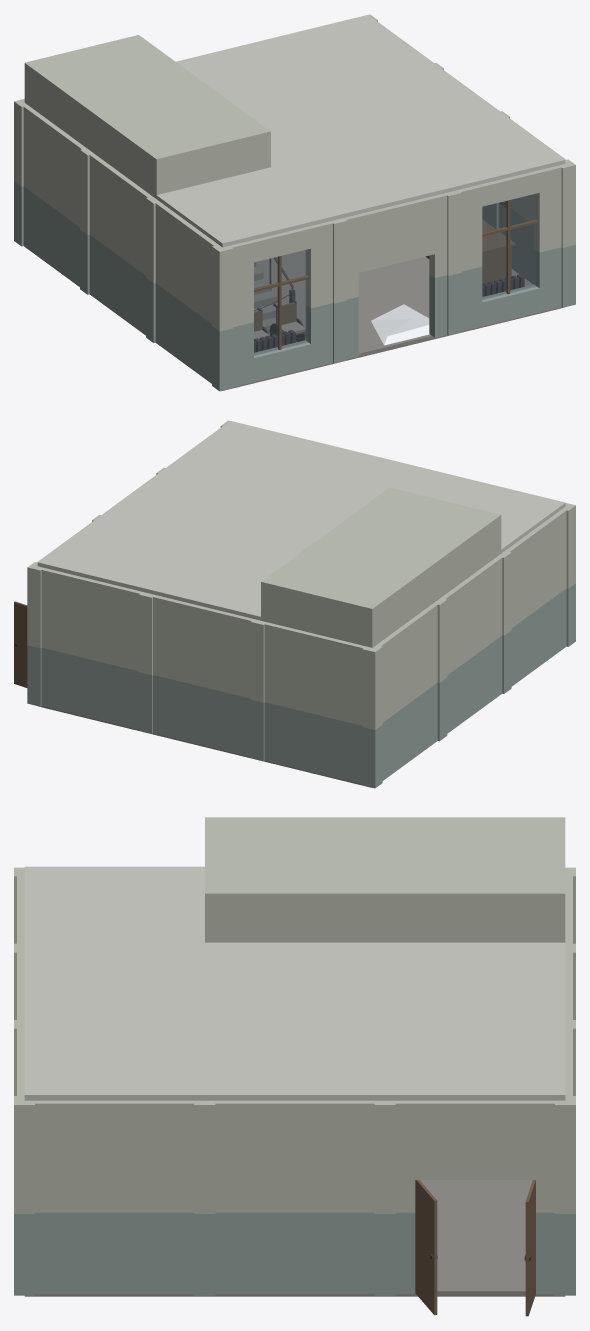
File: INT_Vestibule.glb
3 views of the same model, one above another, from view 1: azimuth 30°, elevation 25°; view 2: azimuth 150°, elevation 25°; view 3: azimuth 270°, elevation 25° (orthographic). The views are drawn at different scales.
Visible parts, largest first — view 1: INT_Vestibule_Stairs_VoidCap_01, INT_Vestibule_Wall_Window_02, INT_Vestibule_Wall_Window_01, INT_Vestibule_Wall_DoorWide_01, INT_Vestibule_Wall_Solid_04, INT_Vestibule_Wall_Solid_06, INT_Vestibule_Wall_Solid_05, INT_Vestibule_Ceiling_Plain_01, INT_Vestibule_Ceiling_Plain_05, INT_Vestibule_Ceiling_Plain_02, INT_Vestibule_Ceiling_Plain_06, INT_Vestibule_Ceiling_Plain_07 (+20 smaller); view 2: INT_Vestibule_Stairs_VoidCap_01, INT_Vestibule_Wall_Solid_01, INT_Vestibule_Wall_Solid_02, INT_Vestibule_Wall_Solid_03, INT_Vestibule_Wall_Solid_04, INT_Vestibule_Wall_Solid_05, INT_Vestibule_Wall_Solid_06, INT_Vestibule_Ceiling_Plain_07, INT_Vestibule_Ceiling_Plain_06, INT_Vestibule_Ceiling_Plain_05, INT_Vestibule_Ceiling_Plain_04, INT_Vestibule_Ceiling_Plain_02 (+10 smaller); view 3: INT_Vestibule_Stairs_VoidCap_01, INT_Vestibule_Wall_Solid_08, INT_Vestibule_Wall_Solid_07, INT_Vestibule_Wall_DoorWide_02, INT_Vestibule_Ceiling_Plain_05, INT_Vestibule_Ceiling_Plain_07, INT_Vestibule_Ceiling_Plain_06, INT_Vestibule_Ceiling_Plain_01, INT_Vestibule_Ceiling_Plain_02, INT_Vestibule_Ceiling_Plain_04, INT_Vestibule_Ceiling_Plain_03, INT_Vestibule_Floor_Tile_09 (+7 smaller).
Part boxes in pixels (x1,y1,x2,y2): INT_Vestibule_Stairs_VoidCap_01: (24,35,270,198); INT_Vestibule_Wall_Window_02: (458,165,561,331); INT_Vestibule_Wall_Window_01: (229,221,332,386); INT_Vestibule_Wall_DoorWide_01: (342,193,448,359); INT_Vestibule_Wall_Solid_04: (155,201,218,383); INT_Vestibule_Wall_Solid_06: (23,104,85,286); INT_Vestibule_Wall_Solid_05: (89,153,152,335); INT_Vestibule_Ceiling_Plain_01: (156,167,336,247); INT_Vestibule_Ceiling_Plain_05: (385,111,565,191); INT_Vestibule_Ceiling_Plain_02: (271,139,450,219); INT_Vestibule_Ceiling_Plain_06: (319,63,498,139); INT_Vestibule_Ceiling_Plain_07: (253,15,432,90); INT_Vestibule_Stairs_VoidCap_01: (261,487,501,647); INT_Vestibule_Wall_Solid_01: (264,622,365,783); INT_Vestibule_Wall_Solid_02: (151,595,253,756); INT_Vestibule_Wall_Solid_03: (40,568,143,729); INT_Vestibule_Wall_Solid_04: (504,509,567,686); INT_Vestibule_Wall_Solid_05: (440,556,502,733); INT_Vestibule_Wall_Solid_06: (375,603,438,780); INT_Vestibule_Ceiling_Plain_07: (37,515,213,593); INT_Vestibule_Ceiling_Plain_06: (102,468,277,542); INT_Vestibule_Ceiling_Plain_05: (167,421,342,494); INT_Vestibule_Ceiling_Plain_04: (149,542,288,620); INT_Vestibule_Ceiling_Plain_02: (278,448,453,513); INT_Vestibule_Stairs_VoidCap_01: (205,817,565,942); INT_Vestibule_Wall_Solid_08: (212,1100,377,1294); INT_Vestibule_Wall_Solid_07: (32,1100,197,1294); INT_Vestibule_Wall_DoorWide_02: (392,1100,557,1294); INT_Vestibule_Ceiling_Plain_05: (24,1019,204,1100); INT_Vestibule_Ceiling_Plain_07: (385,1019,565,1100); INT_Vestibule_Ceiling_Plain_06: (205,1019,384,1100); INT_Vestibule_Ceiling_Plain_01: (24,866,204,942); INT_Vestibule_Ceiling_Plain_02: (24,942,204,1018); INT_Vestibule_Ceiling_Plain_04: (385,942,565,1018); INT_Vestibule_Ceiling_Plain_03: (205,942,384,1018); INT_Vestibule_Floor_Tile_09: (385,1215,565,1296).
Size of the model in its own units: 10.17 by 4.6 by 9.35.
